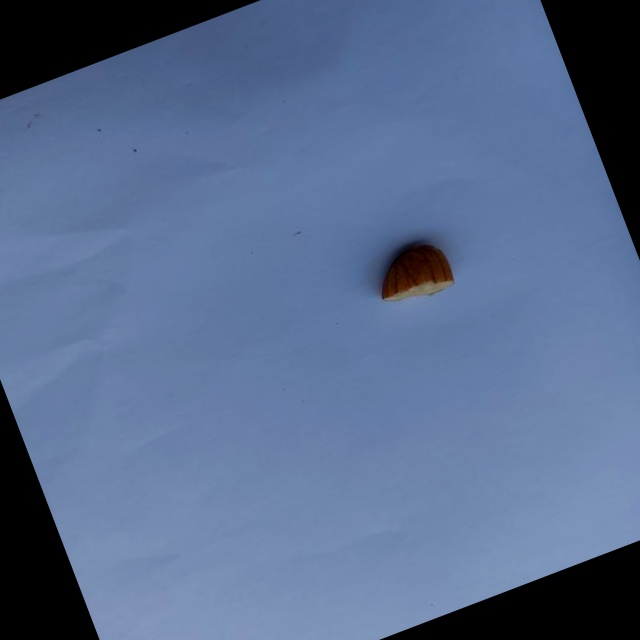grade4: (358, 228, 466, 319)
